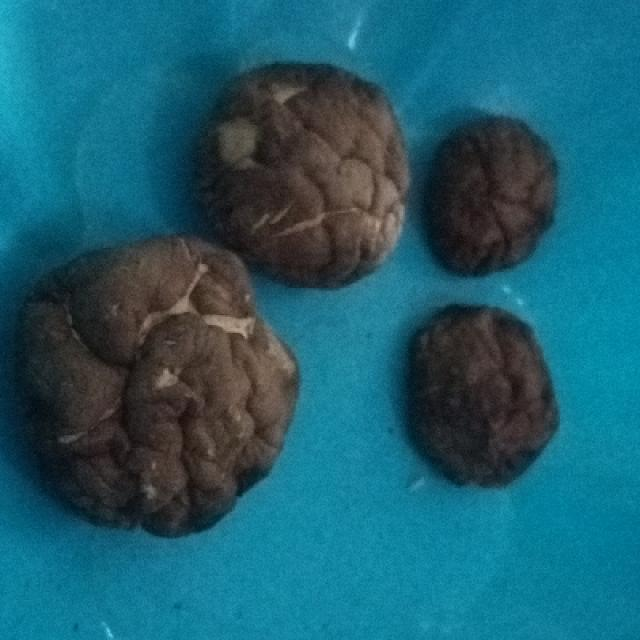Lentinus edodes: (19, 239, 299, 533), (205, 63, 411, 277), (412, 303, 563, 487), (431, 117, 557, 277)
